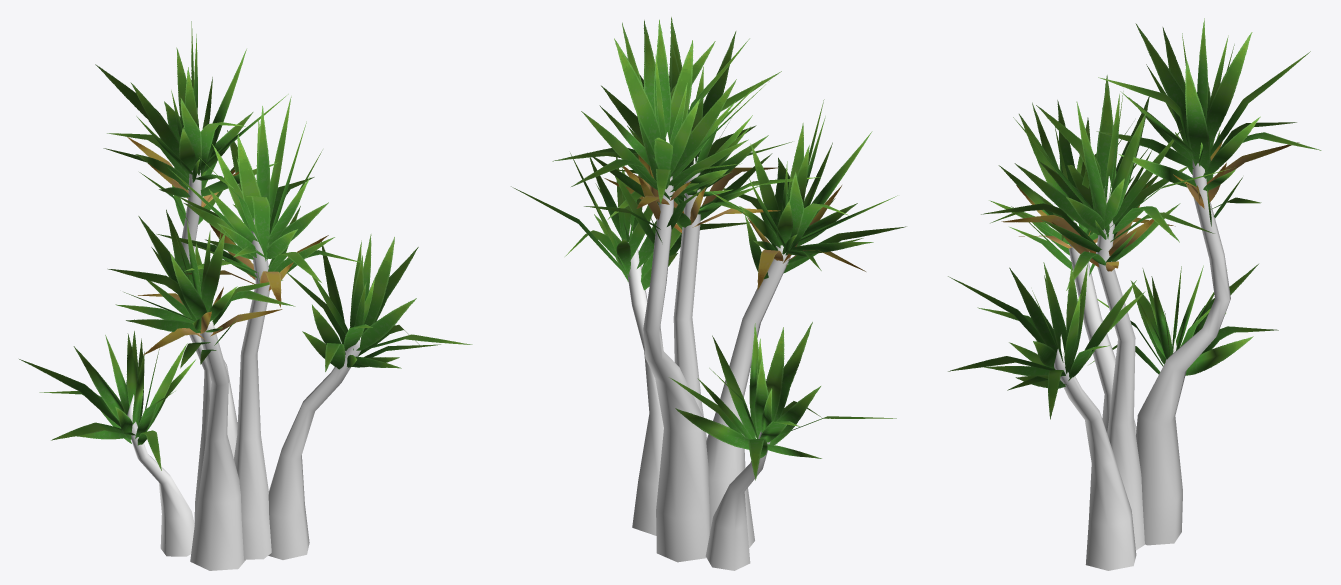
The model's file is SM_YuccaTree03.fbx.
3 views of the same model, side by side, from view 1: azimuth 30°, elevation 25°; view 2: azimuth 150°, elevation 25°; view 3: azimuth 270°, elevation 25° (orthographic). The views are drawn at different scales.
Visible parts, largest first — view 1: SM_YuccaTree03; view 2: SM_YuccaTree03; view 3: SM_YuccaTree03.
Boxes of the visible parts, box(x1,y1,x2,y2) form: SM_YuccaTree03: box(19, 21, 472, 570); SM_YuccaTree03: box(511, 17, 906, 570); SM_YuccaTree03: box(948, 18, 1321, 570).
Size of the model in its own units: 340 by 439 by 295.
